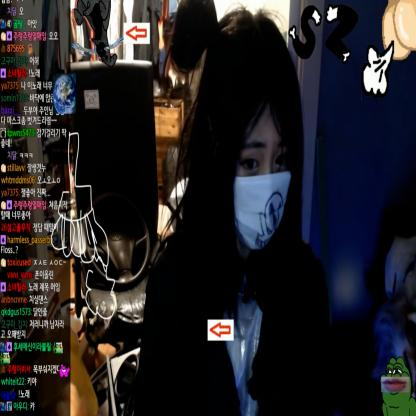streamer: (140, 10, 328, 416)
